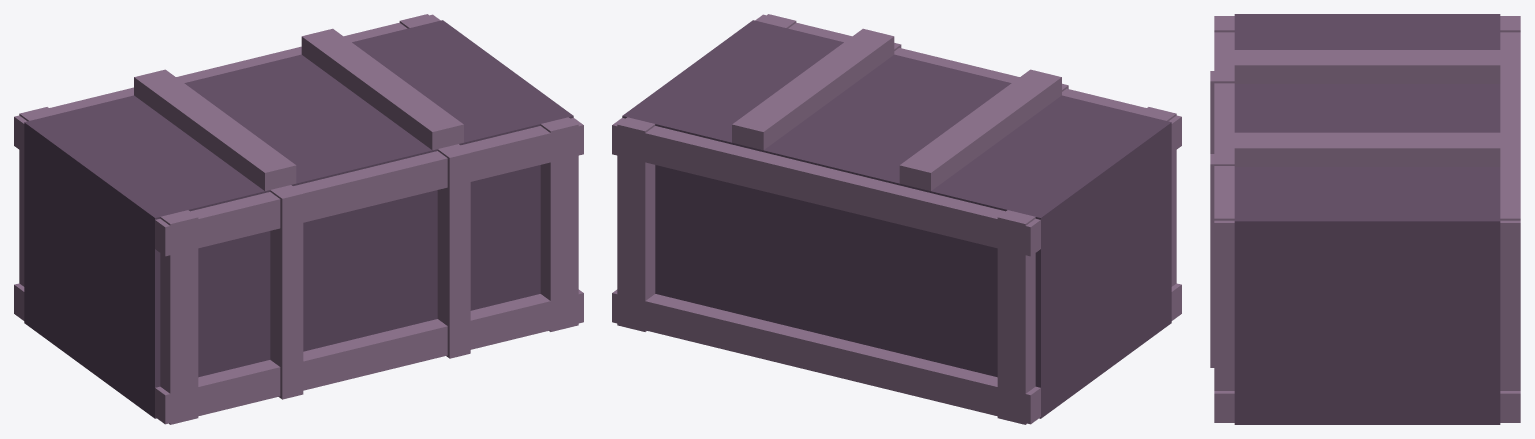
Rendered from TW_CRATE_LONG_A_LOD0.glb.
3 views of the same model, side by side, from view 1: azimuth 30°, elevation 25°; view 2: azimuth 150°, elevation 25°; view 3: azimuth 270°, elevation 25° (orthographic).
Visible parts, largest first — view 1: TW_CRATE_LONG_A_LOD0; view 2: TW_CRATE_LONG_A_LOD0; view 3: TW_CRATE_LONG_A_LOD0.
Part boxes in pixels (x1=…): TW_CRATE_LONG_A_LOD0: x1=14, y1=14, x2=583, y2=424; TW_CRATE_LONG_A_LOD0: x1=612, y1=14, x2=1181, y2=424; TW_CRATE_LONG_A_LOD0: x1=1210, y1=14, x2=1520, y2=424.
Size of the model in its own units: 1.2 by 0.6 by 0.76.
1 material, 1 textured.
